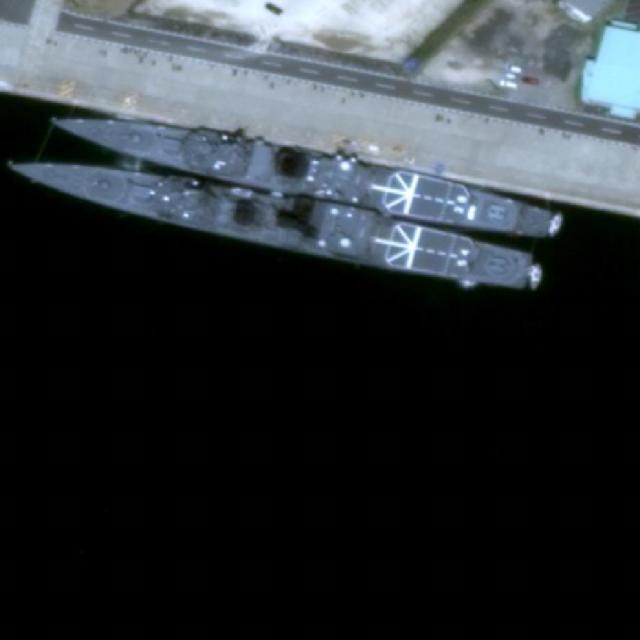Destroyer: (4, 139, 545, 297), (47, 100, 562, 245)
